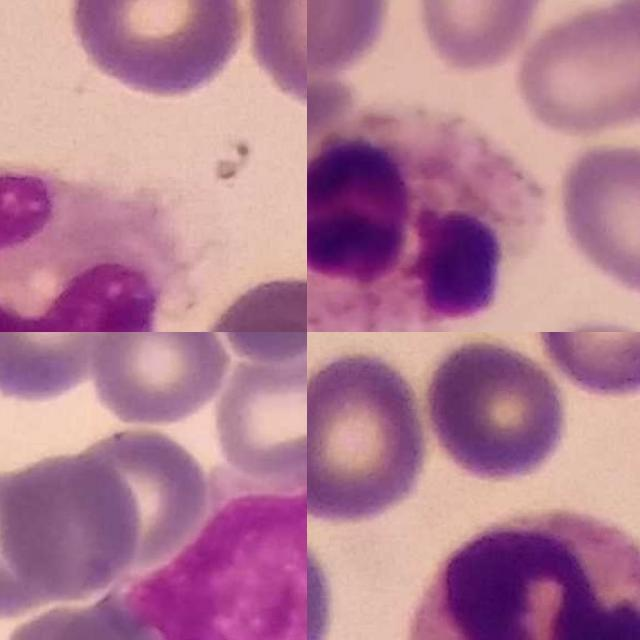Monocyte: (0, 161, 183, 332)
Neutrophil: (307, 110, 547, 332), (404, 508, 640, 640)
RBC: (115, 485, 307, 640)
